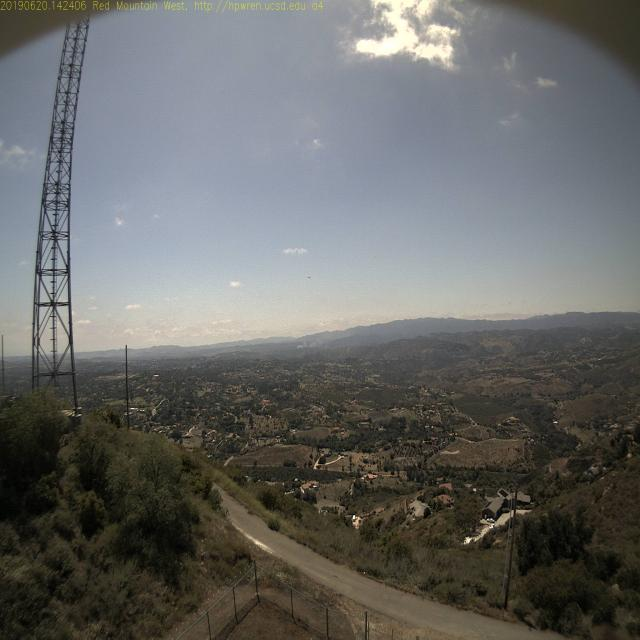smoke: (291, 335, 311, 354)
